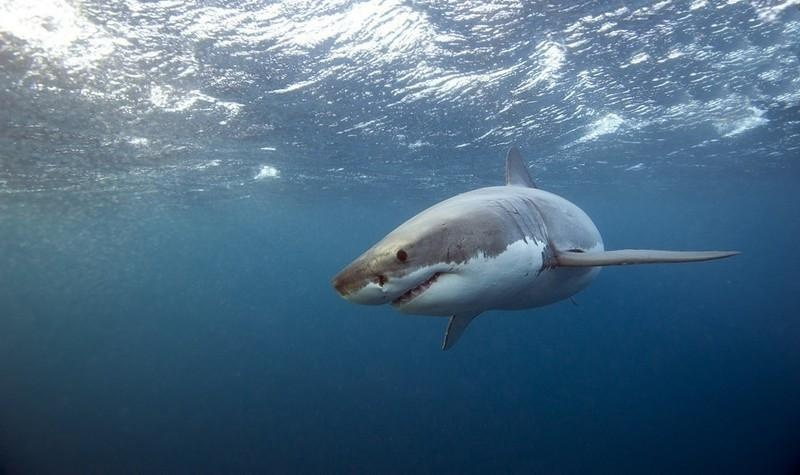fish: (316, 139, 764, 349)
